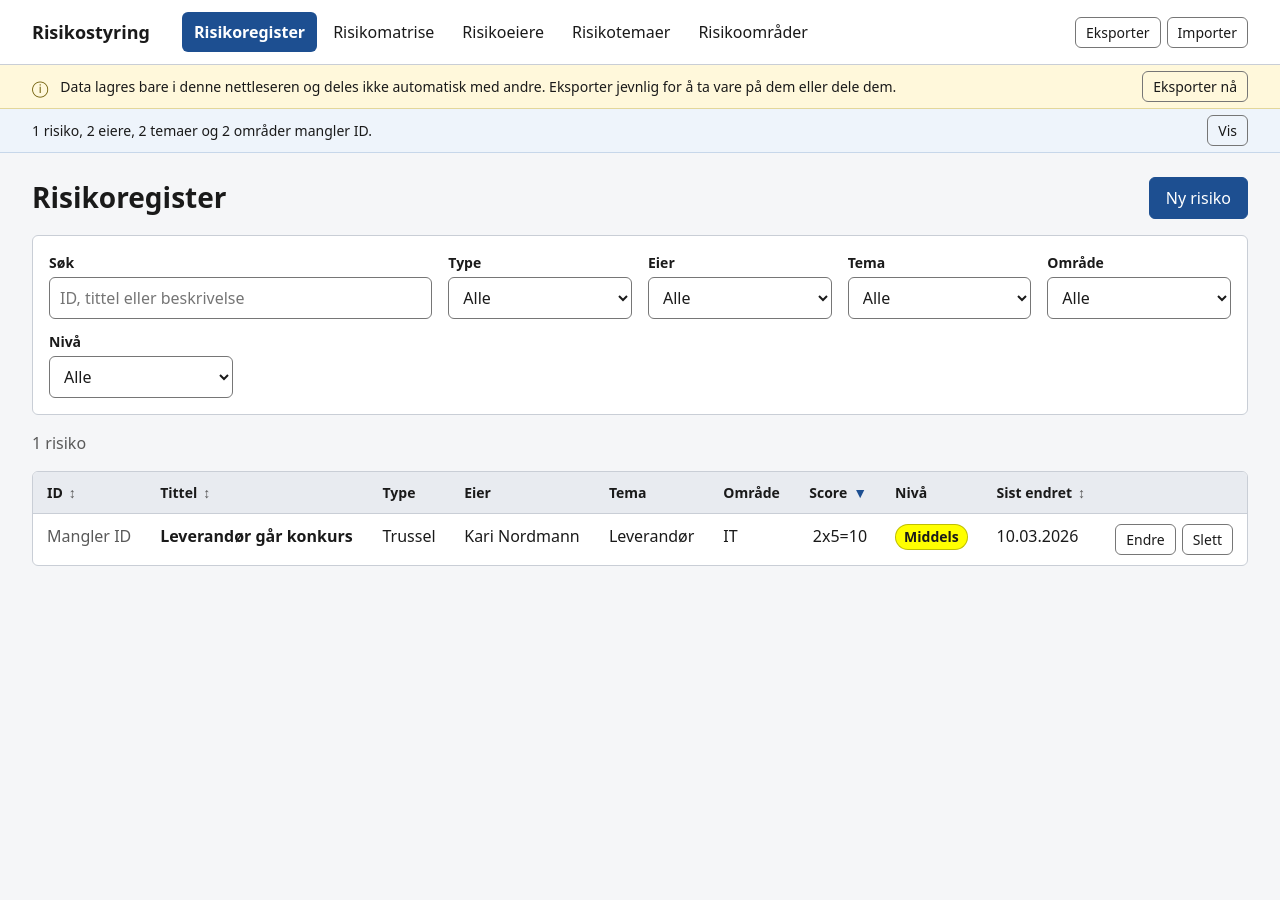
Test: risikotabell (K3–K5) › sletting (K5) › viser veiledning når siste risiko er slettet
The image size is (1280, 900).
Expected: the heading "Risikoregister" is shown, [32,181,226,215]
Click the button with aria-label "Slett Leverandør går konkurs". click: (1207, 540)
box: [1182,524,1233,555]
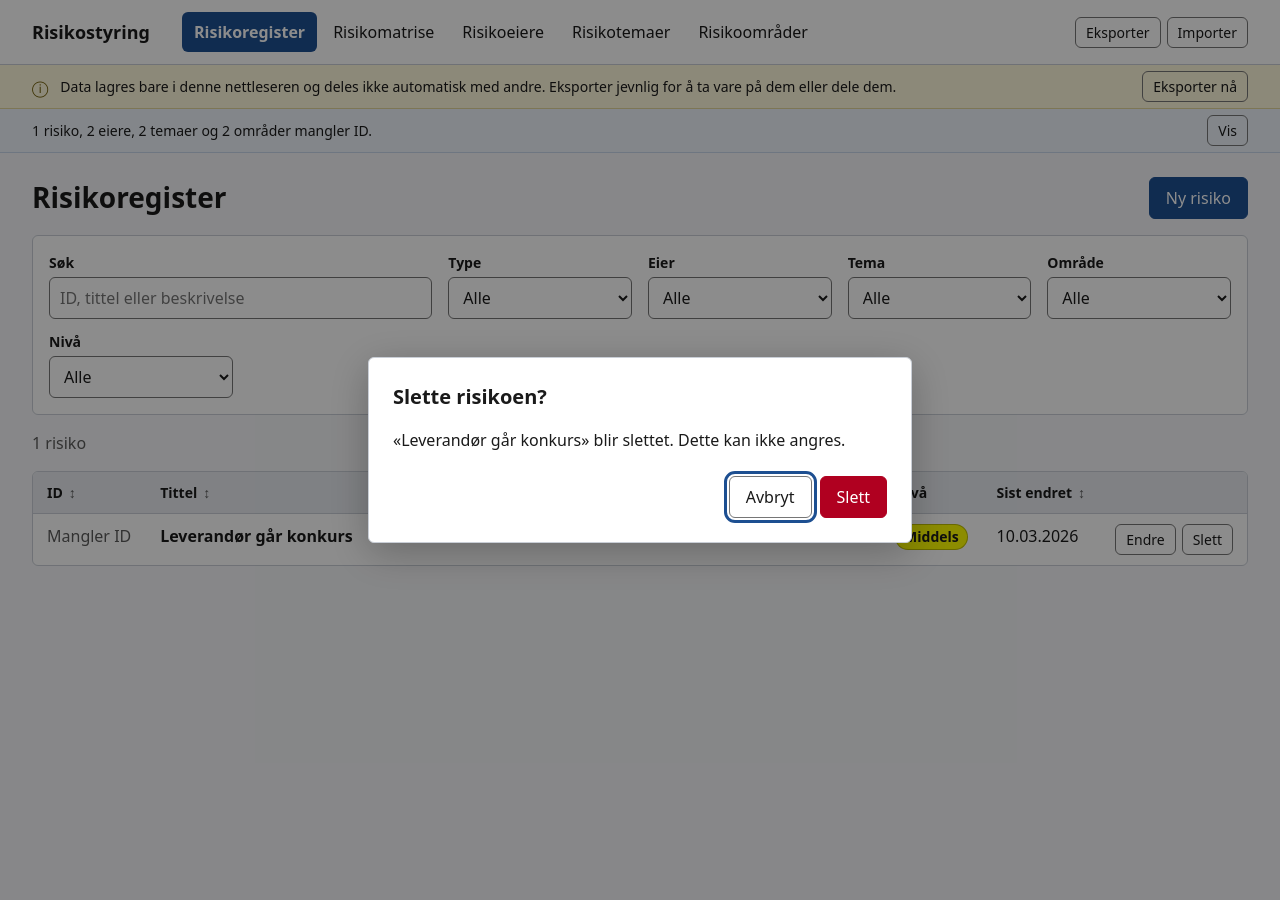
Click the button "Slett". click: (853, 497)
box: [820,476,887,518]
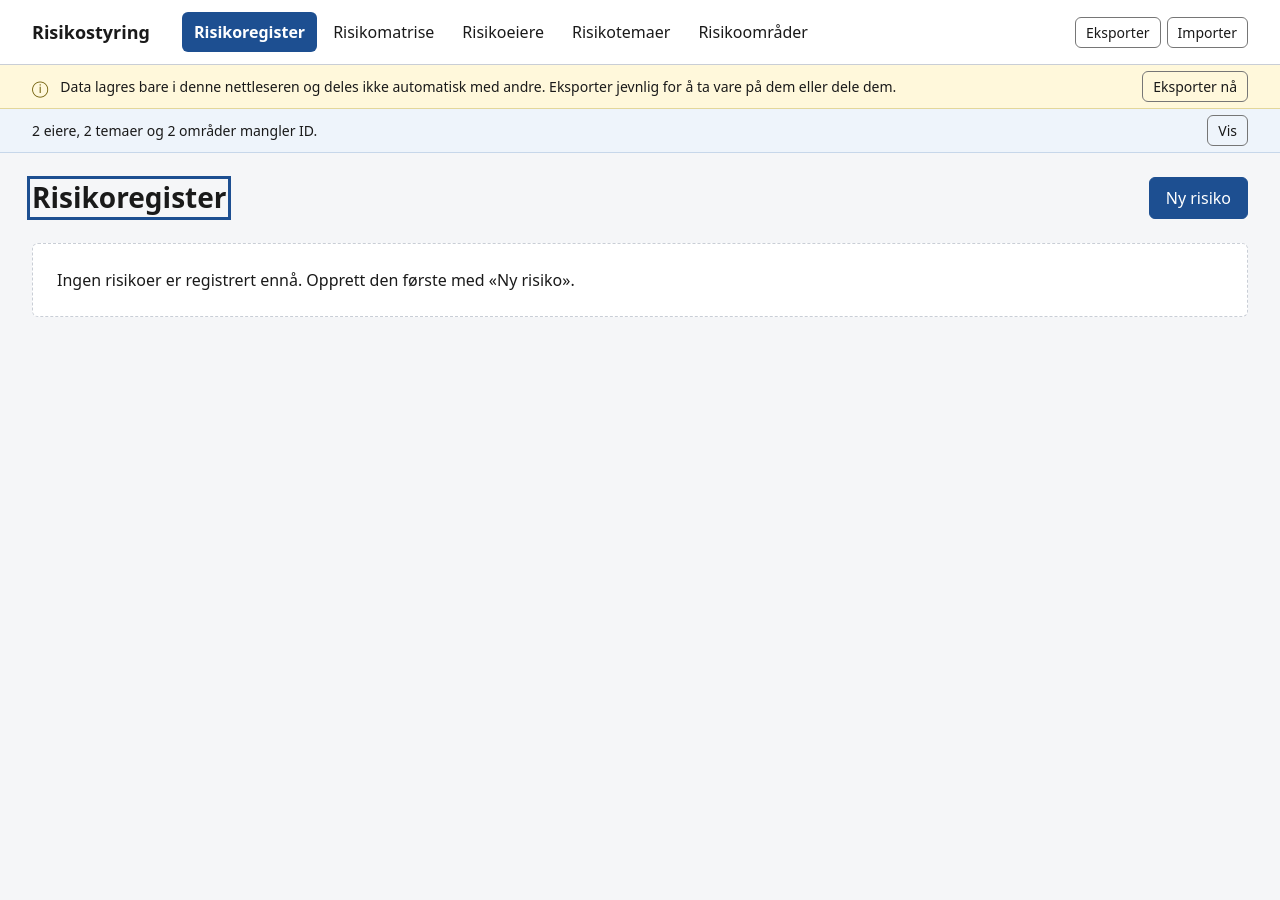
Expected: the text "Ingen risikoer er registrert ennå" is shown, [57,269,575,291]
